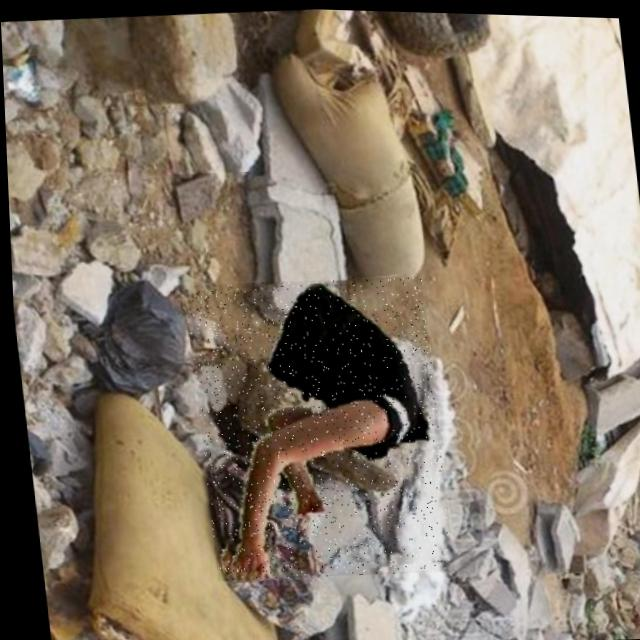Person in Rubble: (180, 267, 449, 584)
